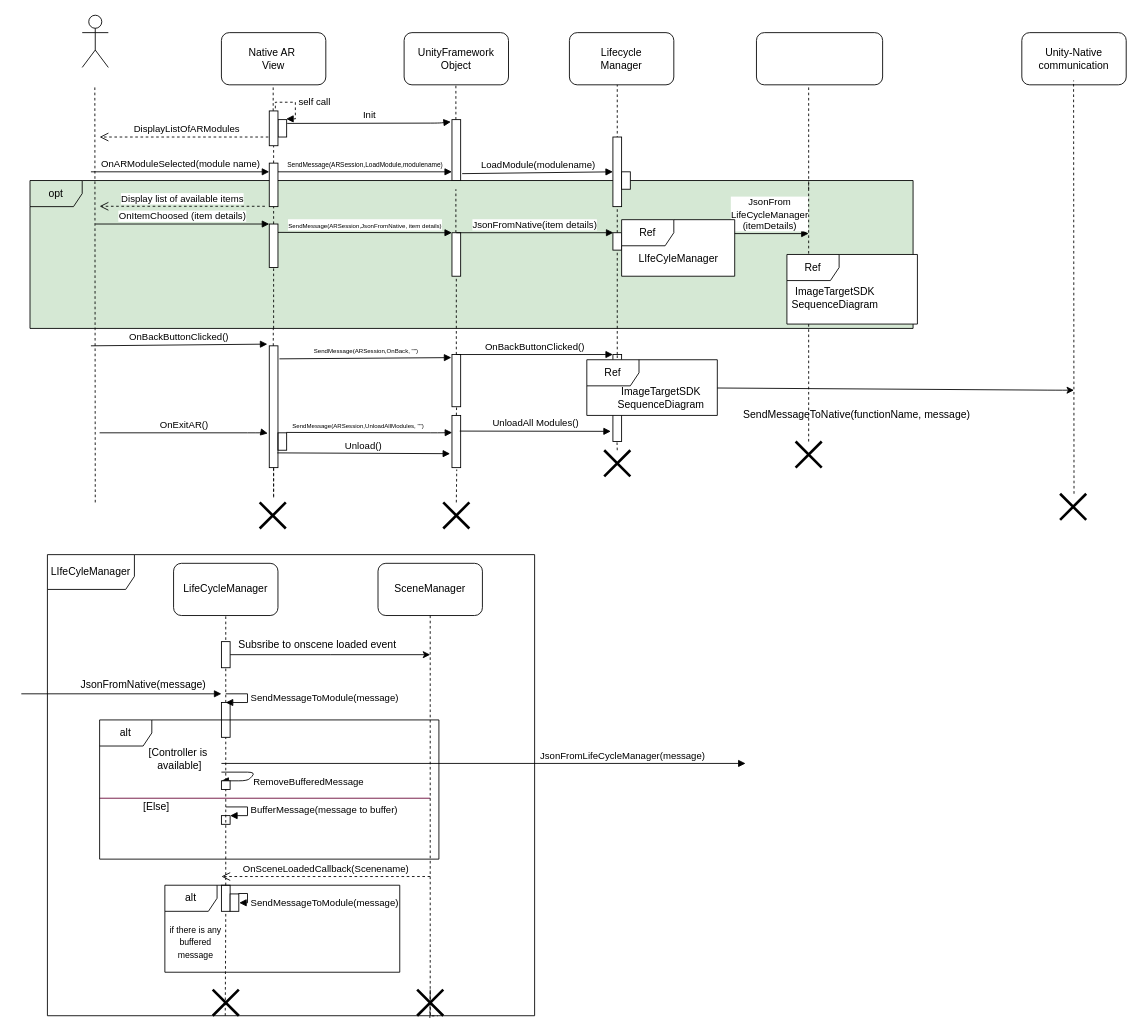
This 1141x1034 diagram has some shape labels left out. The shapes that lost their labels are listed below. From the top down, each one's centre as x and y in pixels, then its label:
At [94,40]: "Actor".
At [819,58]: "INativeMessageReciever".
